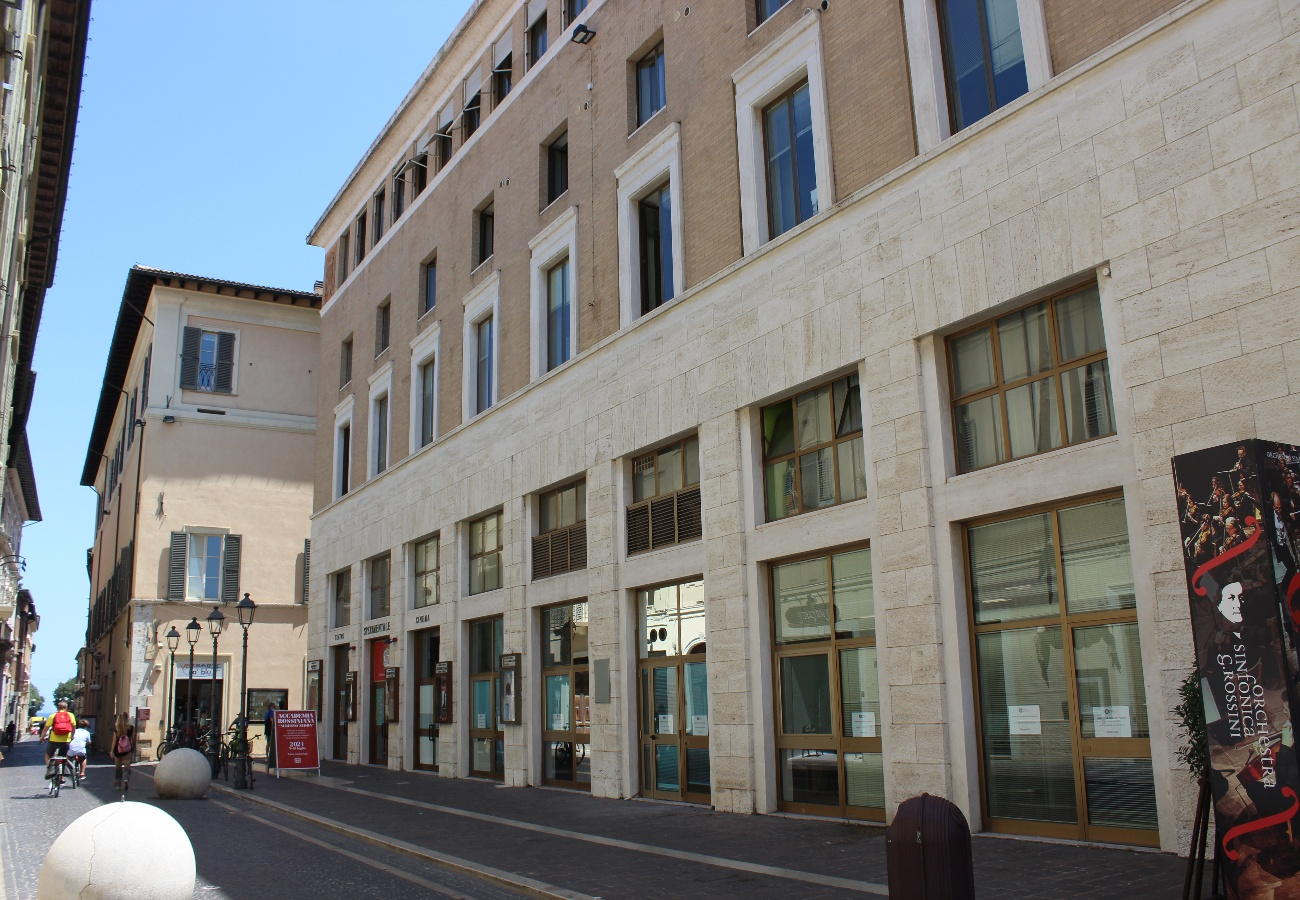Teatro Sperimentale: (298, 1, 1175, 855)
